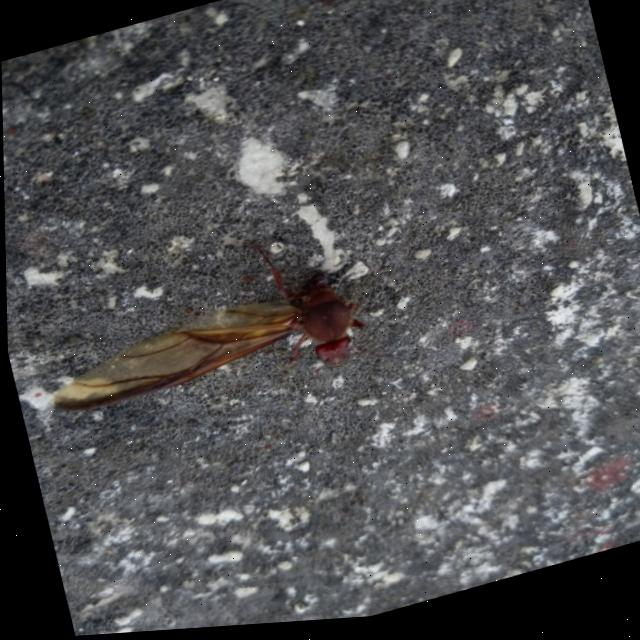Dead-Female-Alate: (27, 212, 392, 451)
